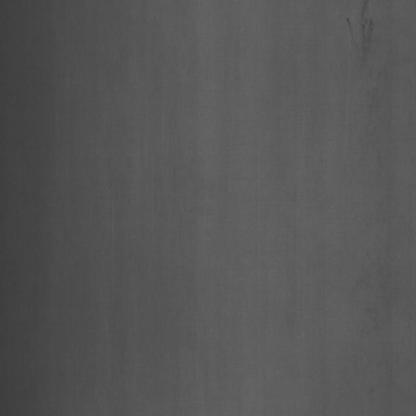water_spot: (340, 7, 379, 79)
